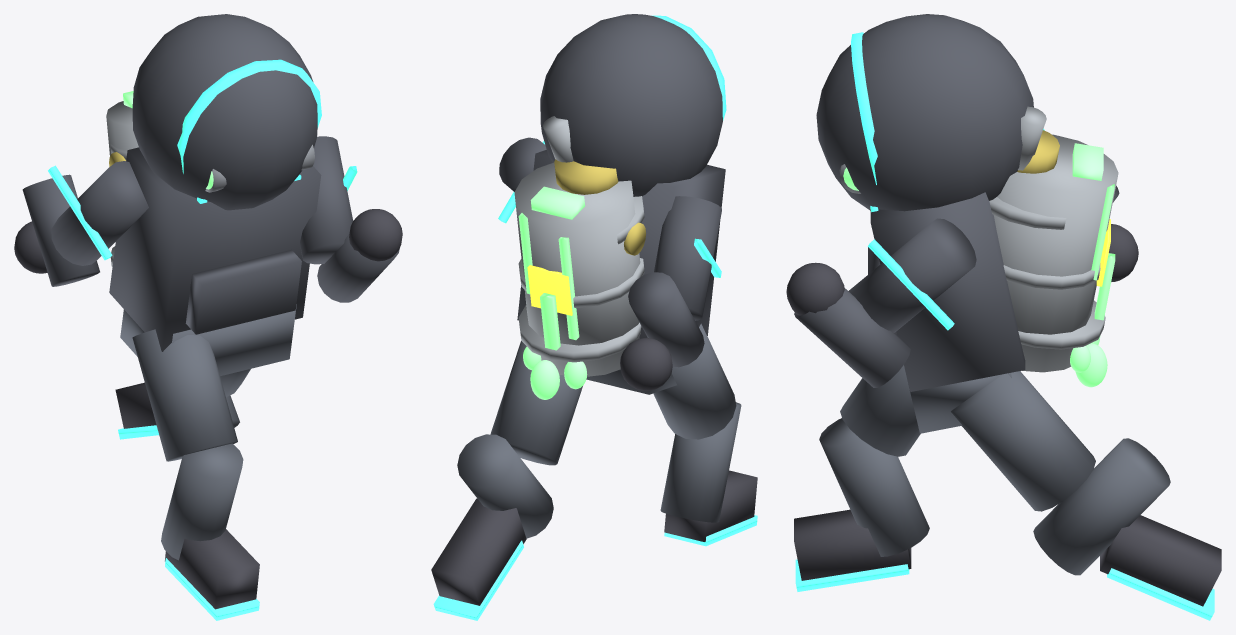
File: villain.glb
The picture shows the model from 3 angles, left to right: view 1: azimuth 30°, elevation 25°; view 2: azimuth 150°, elevation 25°; view 3: azimuth 270°, elevation 25°; orthographic projection. The views are drawn at different scales.
Parts seen in each view (by area): view 1: Hood_Outer_Shell, Torso_Hoodie, Leg_Thigh_L, Hoodie_Pouch_Pocket, Leg_Shin_L, Arm_Upper_L, Foot_Boot_L, Pelvis_Pants, Arm_Upper_R, Arm_Forearm_L, Arm_Forearm_R, Hood_Neon_Trim_Rim (+6 smaller); view 2: Hood_Outer_Shell, Toxic_Waste_Canister, Foot_Boot_R, Leg_Thigh_R, Leg_Shin_R, Leg_Shin_L, Arm_Upper_L, Leg_Thigh_L, Arm_Forearm_L, Torso_Hoodie, Foot_Boot_L, Glove_Fist_L (+17 smaller); view 3: Hood_Outer_Shell, Torso_Hoodie, Toxic_Waste_Canister, Leg_Thigh_R, Leg_Shin_R, Leg_Shin_L, Arm_Upper_R, Foot_Boot_R, Arm_Forearm_R, Foot_Boot_L, Leg_Thigh_L, Pelvis_Pants (+15 smaller).
Part boxes in pixels (bbox=[...]): Hood_Outer_Shell: bbox=[132, 14, 317, 210]; Torso_Hoodie: bbox=[109, 147, 321, 351]; Leg_Thigh_L: bbox=[132, 329, 237, 461]; Hoodie_Pouch_Pocket: bbox=[185, 249, 301, 334]; Leg_Shin_L: bbox=[161, 443, 243, 560]; Arm_Upper_L: bbox=[51, 161, 148, 265]; Foot_Boot_L: bbox=[165, 529, 259, 609]; Pelvis_Pants: bbox=[120, 304, 296, 376]; Arm_Upper_R: bbox=[300, 136, 353, 264]; Arm_Forearm_L: bbox=[22, 174, 99, 286]; Arm_Forearm_R: bbox=[317, 233, 399, 302]; Hood_Neon_Trim_Rim: bbox=[177, 59, 321, 173]; Hood_Outer_Shell: bbox=[540, 14, 722, 196]; Toxic_Waste_Canister: bbox=[514, 162, 640, 376]; Foot_Boot_R: bbox=[431, 498, 526, 605]; Leg_Thigh_R: bbox=[490, 341, 582, 465]; Leg_Shin_R: bbox=[457, 434, 553, 538]; Leg_Shin_L: bbox=[660, 402, 741, 522]; Arm_Upper_L: bbox=[654, 196, 721, 320]; Leg_Thigh_L: bbox=[653, 323, 736, 439]; Arm_Forearm_L: bbox=[628, 272, 704, 367]; Torso_Hoodie: bbox=[517, 150, 725, 338]; Foot_Boot_L: bbox=[664, 470, 757, 541]; Glove_Fist_L: bbox=[620, 338, 672, 390]; Hood_Outer_Shell: bbox=[816, 14, 1033, 211]; Torso_Hoodie: bbox=[870, 192, 1025, 391]; Toxic_Waste_Canister: bbox=[993, 134, 1118, 372]; Leg_Thigh_R: bbox=[951, 371, 1095, 511]; Leg_Shin_R: bbox=[1033, 438, 1170, 575]; Leg_Shin_L: bbox=[819, 418, 929, 556]; Arm_Upper_R: bbox=[848, 218, 976, 332]; Foot_Boot_R: bbox=[1100, 515, 1221, 606]; Arm_Forearm_R: bbox=[794, 288, 910, 387]; Foot_Boot_L: bbox=[794, 509, 911, 580]; Leg_Thigh_L: bbox=[840, 365, 920, 456]; Pelvis_Pants: bbox=[905, 370, 1011, 433].
Size of the model in its own units: 0.8429 by 1.75 by 1.19.
